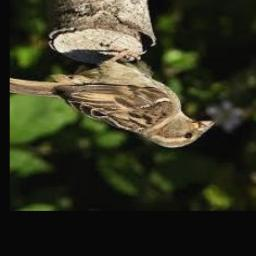Sparrow: (10, 51, 215, 149)
